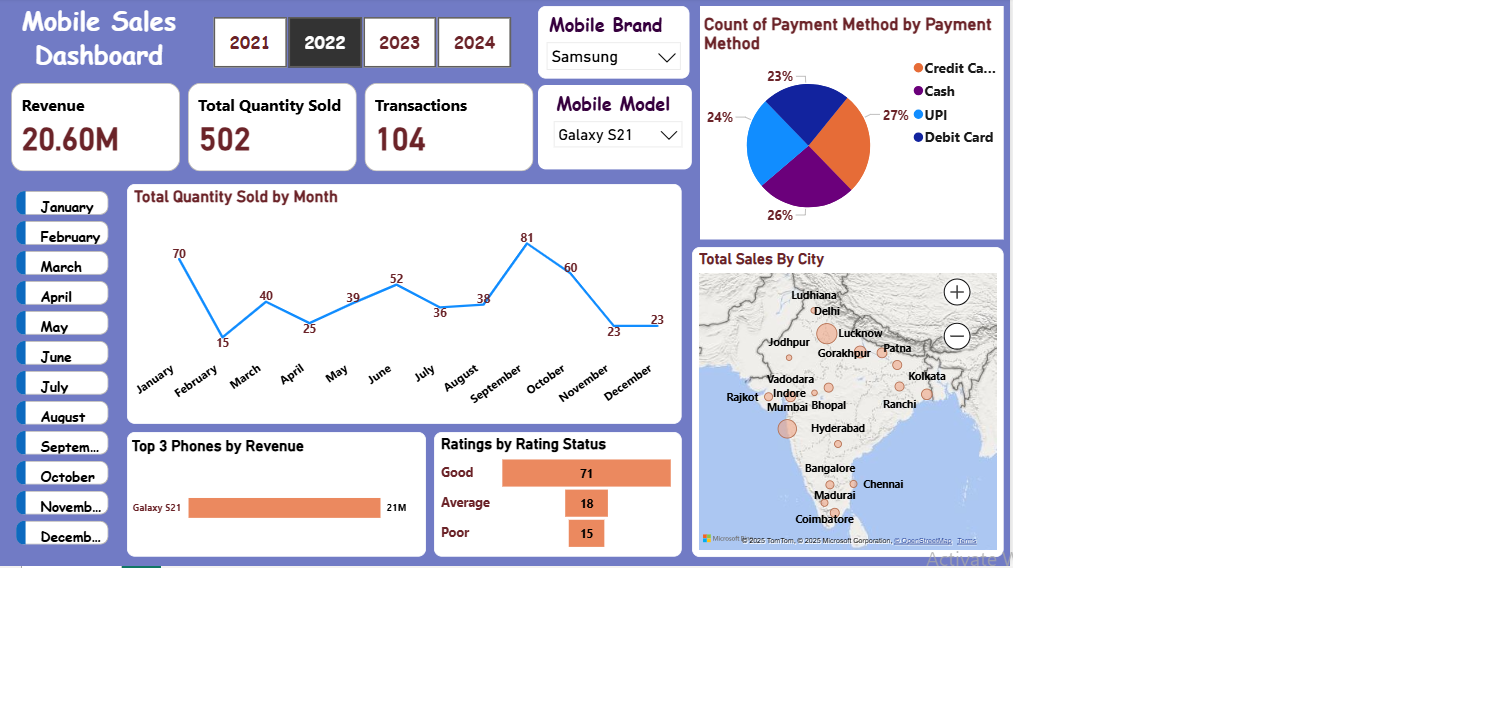

The page's visual inventory and layout, read from the dashboard file:
{"tool":"powerbi","page":{"name":"Dashboard","canvas":[1280,720],"ordinal":0},"visuals":[{"type":"textbox","box":[9.7,0,230.7,109.8],"z":0},{"type":"advancedSlicerVisual","fields":{"Values":["Date_Calendar.Date.Variation.Date Hierarchy.Month"]},"box":[11,236.3,135,472.6],"z":1000},{"type":"cardVisual","fields":{"Data":["Sales_Data.Revenue","Sales_Data.Total_Quantity","Sales_Data.Transactions"]},"box":[9.7,102.9,672.7,122.3],"z":2000},{"type":"pieChart","fields":{"Category":["Sales_Data.Payment Method"],"Y":["CountNonNull(Sales_Data.Payment Method)"]},"box":[886.8,9.7,385,296.1],"z":3000},{"type":"slicer","fields":{"Values":["Sales_Data.Mobile Model"]},"box":[682.5,109.8,194.6,107],"z":4000},{"type":"slicer","fields":{"Values":["Sales_Data.Brand"]},"box":[682.5,9.7,191.8,91.7],"z":5000},{"type":"map","title":"Total Sales By City","fields":{"Category":["Sales_Data.City"],"Size":["CountNonNull(Sales_Data.City)"]},"box":[877.1,315.5,394.7,393.4],"z":6000},{"type":"lineChart","fields":{"Category":["Date_Calendar.Date.Variation.Date Hierarchy.Month"],"Y":["Sales_Data.Total Quantity Sold"]},"box":[161.2,236.3,703.3,304.4],"z":7000},{"type":"funnel","title":" Ratings by Rating Status","fields":{"Category":["Sales_Data.Rating Status"],"Y":["CountNonNull(Sales_Data.Customer Ratings)"]},"box":[550.4,550.4,314.1,158.5],"z":8000},{"type":"clusteredBarChart","title":"Top 3 Phones by Revenue","fields":{"Y":["Sales_Data.Revenue"],"Category":["Sales_Data.Mobile Model"]},"box":[161.2,550.4,379.5,158.5],"z":9000},{"type":"slicer","fields":{"Values":["Date_Calendar.Date.Variation.Date Hierarchy.Year"]},"box":[250.2,9.7,417,92],"z":10000}]}

Visuals, with their boxes on the page's 1280x720 design canvas (x1, y1, x2, y2). These are canvas units, not pixel positions in the 1492x721 screenshot, which may show the page scaled, cropped or inside an application window:
textbox: {"left": 10, "top": 0, "right": 240, "bottom": 110}
advancedSlicerVisual - Date_Calendar.Date.Variation.Date Hierarchy.Month: {"left": 11, "top": 236, "right": 146, "bottom": 709}
cardVisual - Sales_Data.Revenue x Sales_Data.Total_Quantity: {"left": 10, "top": 103, "right": 682, "bottom": 225}
pieChart - Sales_Data.Payment Method x CountNonNull(Sales_Data.Payment Method): {"left": 887, "top": 10, "right": 1272, "bottom": 306}
slicer - Sales_Data.Mobile Model: {"left": 682, "top": 110, "right": 877, "bottom": 217}
slicer - Sales_Data.Brand: {"left": 682, "top": 10, "right": 874, "bottom": 101}
"Total Sales By City" map: {"left": 877, "top": 316, "right": 1272, "bottom": 709}
lineChart - Date_Calendar.Date.Variation.Date Hierarchy.Month x Sales_Data.Total Quantity Sold: {"left": 161, "top": 236, "right": 864, "bottom": 541}
" Ratings by Rating Status" funnel: {"left": 550, "top": 550, "right": 864, "bottom": 709}
"Top 3 Phones by Revenue" clusteredBarChart: {"left": 161, "top": 550, "right": 541, "bottom": 709}
slicer - Date_Calendar.Date.Variation.Date Hierarchy.Year: {"left": 250, "top": 10, "right": 667, "bottom": 102}
